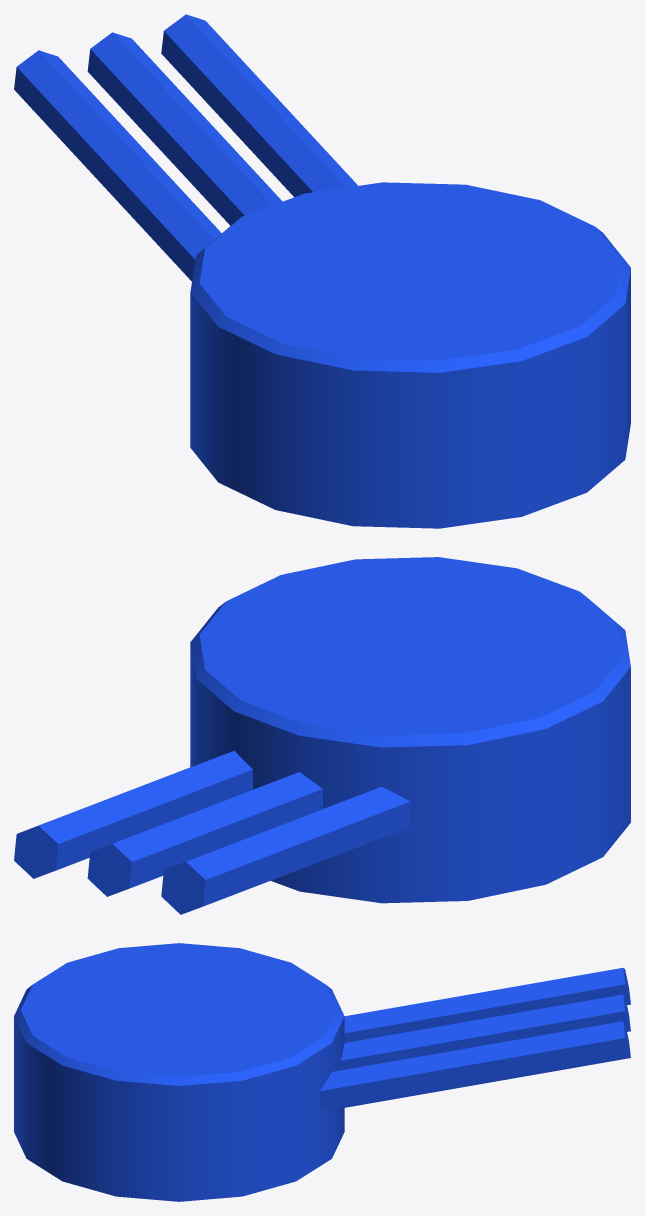
The model's file is TripleCannon.fbx.
The picture shows the model from 3 angles, top to bottom: view 1: azimuth 30°, elevation 25°; view 2: azimuth 150°, elevation 25°; view 3: azimuth 270°, elevation 25°; orthographic projection. The views are drawn at different scales.
Parts seen in each view (by area): view 1: TripleCannon; view 2: TripleCannon; view 3: TripleCannon.
Part boxes in pixels (x1,y1,x2,y2): TripleCannon: (14, 14, 630, 528); TripleCannon: (14, 557, 630, 914); TripleCannon: (14, 943, 630, 1201).
Size of the model in its own units: 64 by 29.39 by 119.
